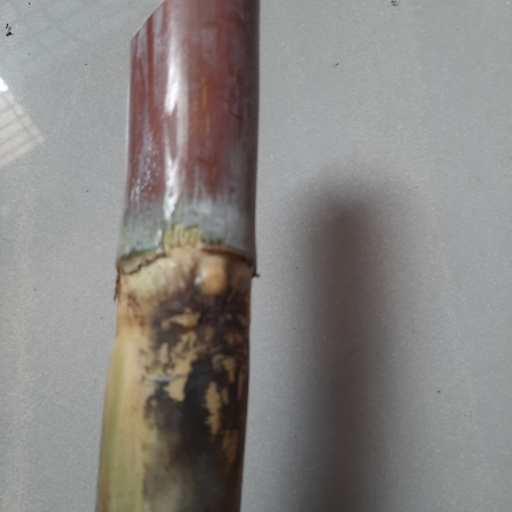Bud: (194, 253, 229, 294)
